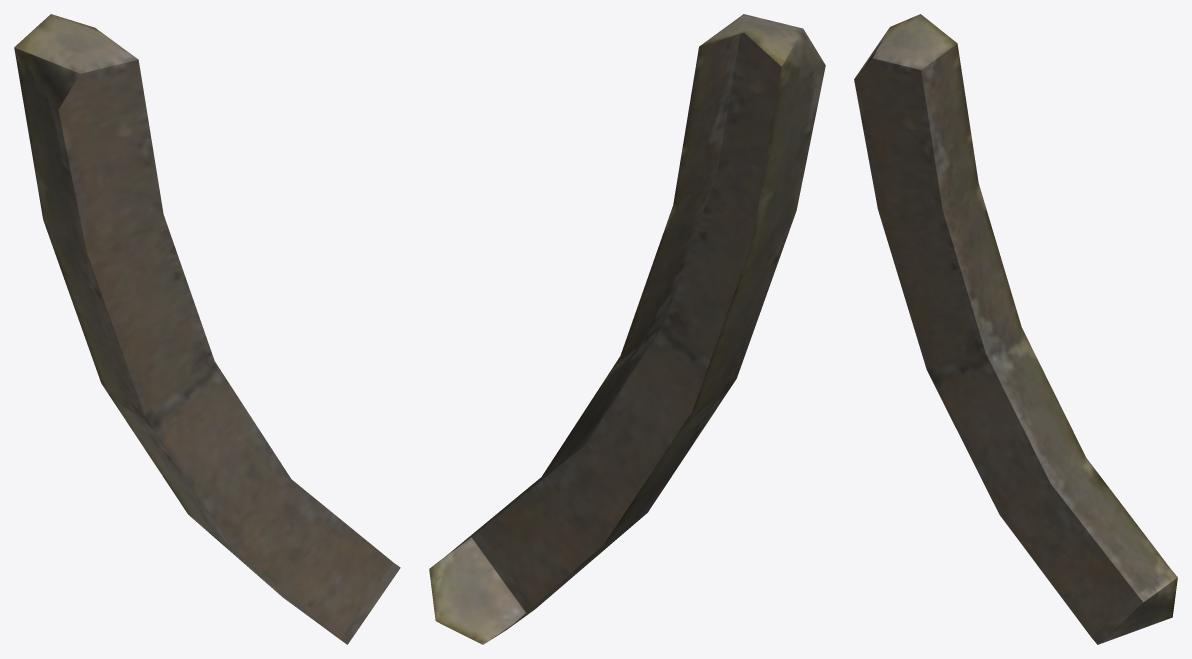
The model's file is border_c_120.glb.
The picture shows the model from 3 angles, left to right: view 1: azimuth 30°, elevation 25°; view 2: azimuth 150°, elevation 25°; view 3: azimuth 330°, elevation 25°; orthographic projection. The views are drawn at different scales.
Visible parts, largest first — view 1: set_0_group_0; view 2: set_0_group_0; view 3: set_0_group_0.
Boxes of the visible parts, x1=… form: set_0_group_0: x1=14, y1=14, x2=400, y2=644; set_0_group_0: x1=429, y1=14, x2=825, y2=644; set_0_group_0: x1=854, y1=14, x2=1177, y2=644.
Size of the model in its own units: 1.39 by 2.54 by 0.3037.
1 material, 1 textured.
